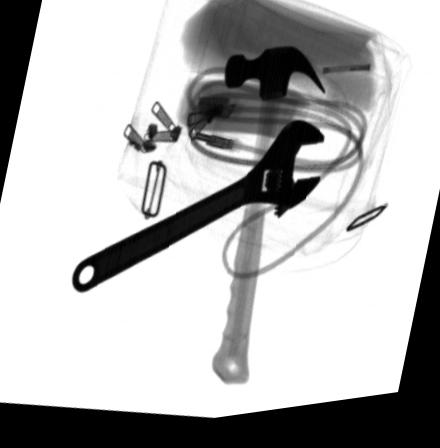Hammer: (210, 49, 329, 390)
Wrench: (70, 126, 326, 295)
